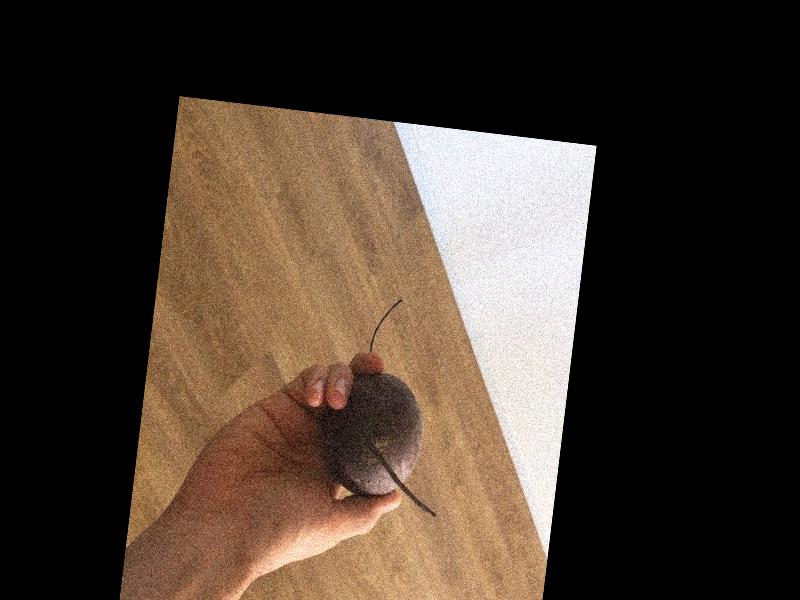Beet: (316, 291, 460, 515)
